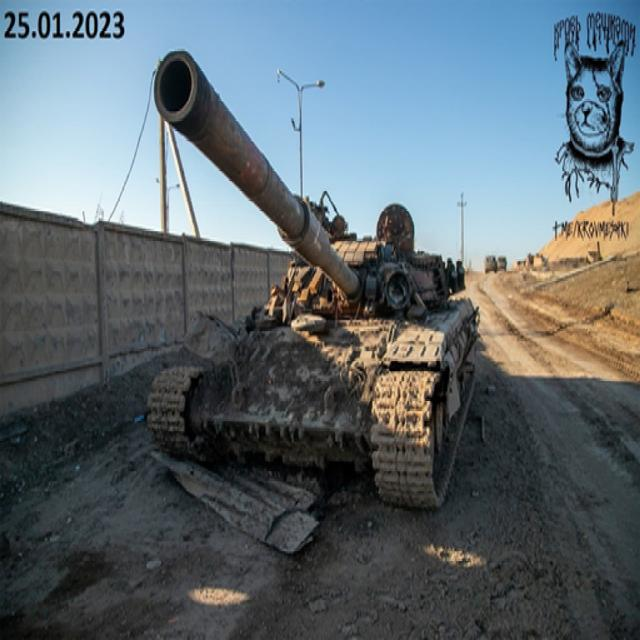TANK: (145, 44, 494, 514)
